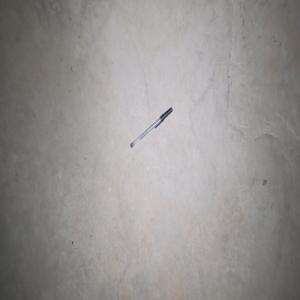Pen: (130, 107, 172, 148)
